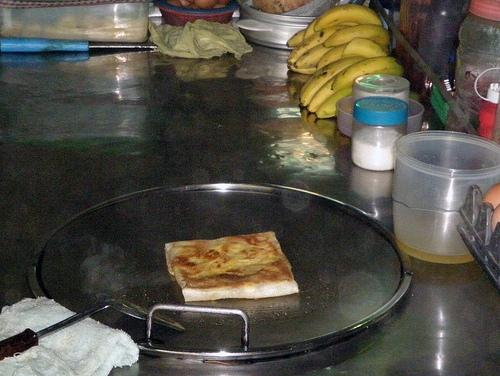banana: (298, 56, 366, 112), (331, 56, 406, 92), (288, 24, 353, 64), (313, 4, 384, 33), (302, 14, 362, 42), (324, 24, 391, 48), (314, 87, 353, 119), (306, 75, 336, 114), (294, 42, 334, 70), (341, 37, 388, 59), (317, 42, 349, 72), (286, 28, 306, 48)
